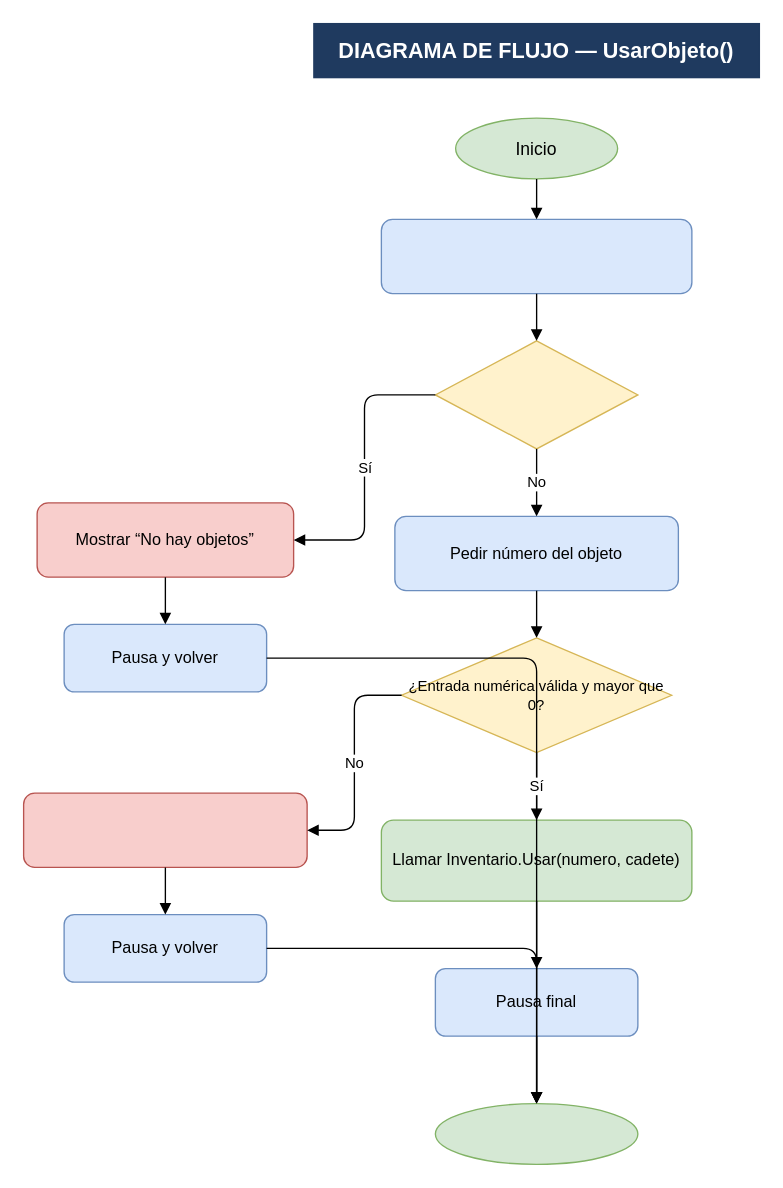
The diagram is 783 pixels wide and 1188 high, and some of its shapes have lost their labels. The centre of each missing label's shape, as x and y in pixels:
"Fin / regresar al menú" goes at [536,1133].
"Limpiar pantalla y mostrar inventario" goes at [536,256].
"Mostrar número inválido" goes at [164,829].
"¿Inventario vacío?" goes at [536,394].
